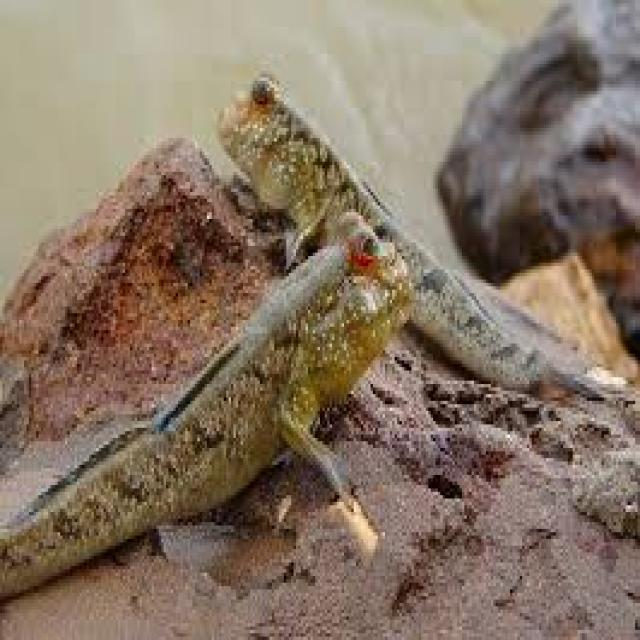Mudskipper: (0, 206, 414, 613), (214, 68, 638, 408)
